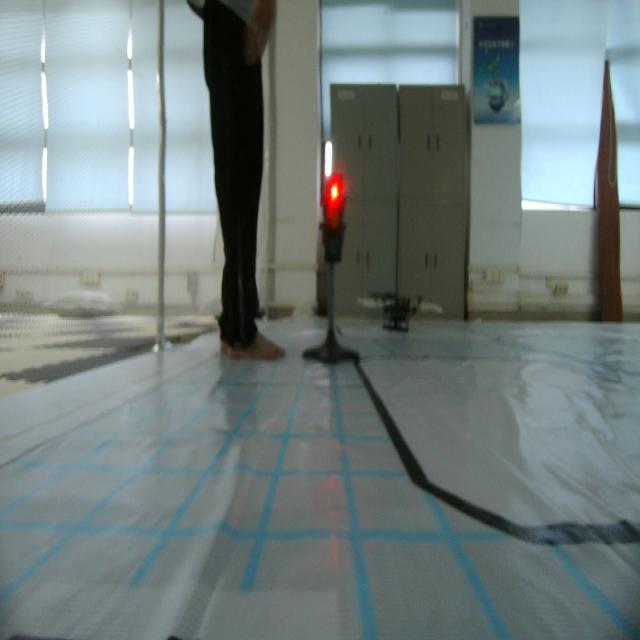red: (321, 176, 347, 264)
